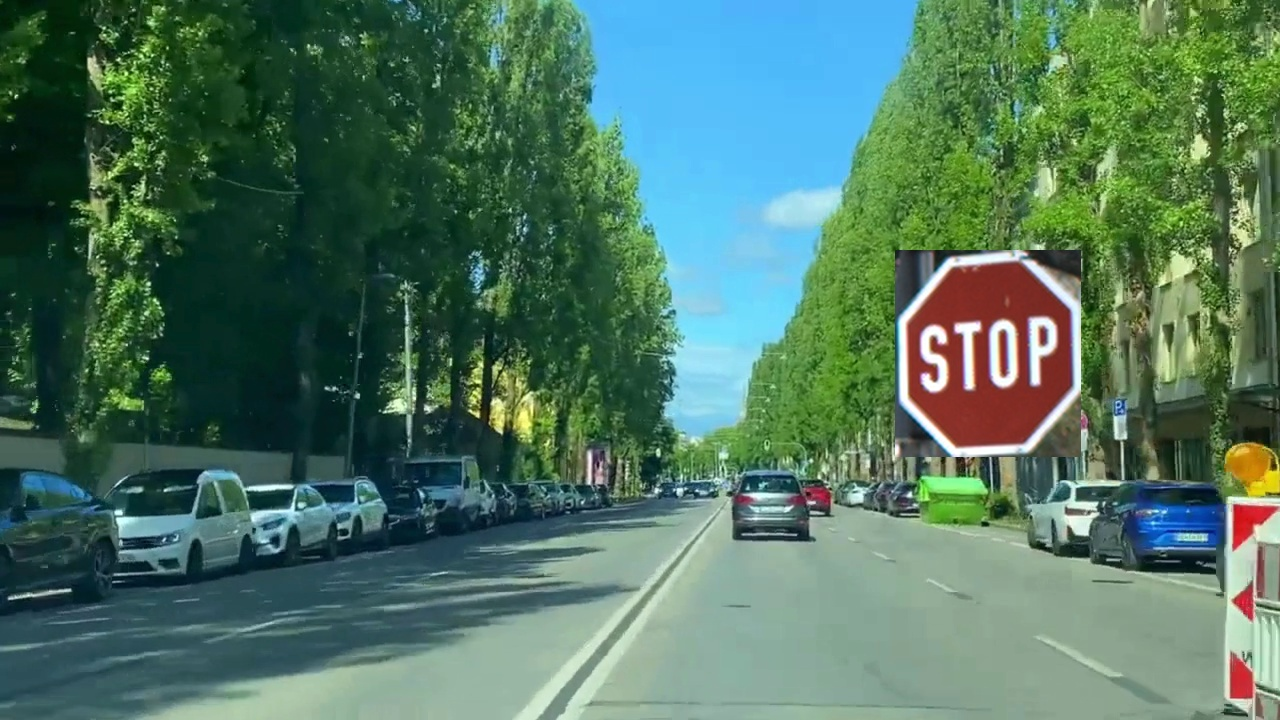Stop: (895, 250, 1081, 457)
